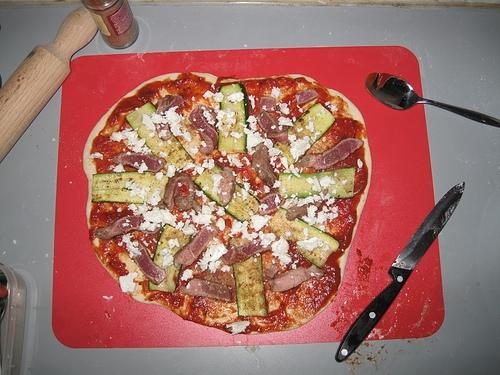vegetable marrow: (126, 101, 194, 171), (269, 207, 340, 269), (192, 162, 260, 223), (272, 103, 334, 166), (149, 224, 190, 293), (278, 167, 356, 199), (91, 172, 168, 204), (217, 84, 249, 154), (233, 254, 267, 317)
